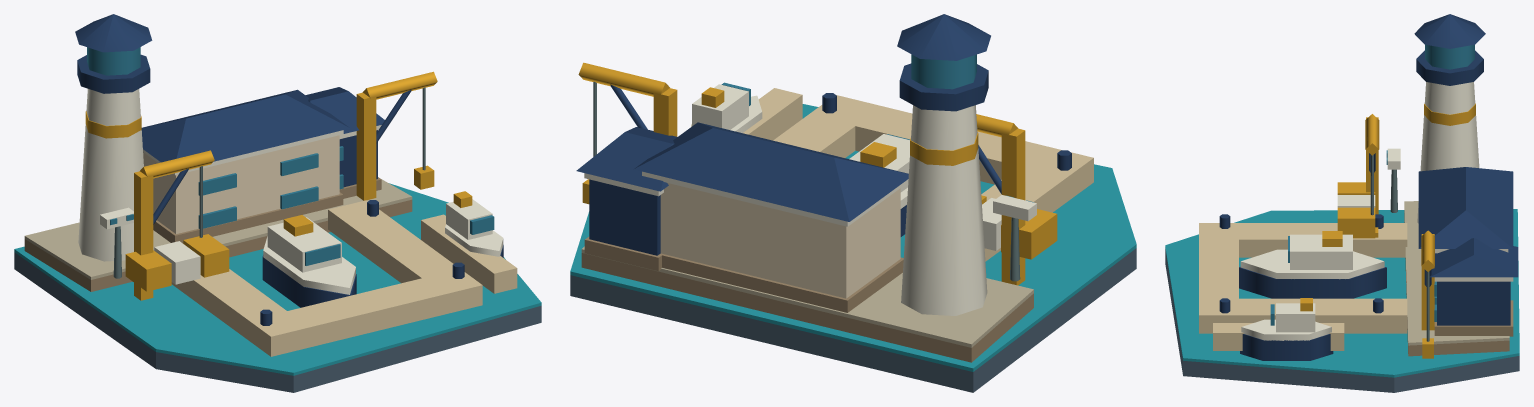
File: port-lv3.glb
3 views of the same model, side by side, from view 1: azimuth 30°, elevation 25°; view 2: azimuth 150°, elevation 25°; view 3: azimuth 270°, elevation 25° (orthographic). The views are drawn at different scales.
Visible parts, largest first — view 1: foundation_water, pier_stone, foundation_slate, warehouse_cream, warehouse_roof_naval, lighthouse_white, cranes_ochre, vessel_white, quay_paving, outer_pier_stone, cargo_ochre, warehouse_windows_glass (+17 smaller); view 2: warehouse_cream, foundation_water, lighthouse_white, warehouse_roof_naval, foundation_slate, pier_stone, quay_stoneDark, quay_paving, cranes_ochre, warehouse_annex_naval, warehouse_stoneDark, vessel_white (+15 smaller); view 3: foundation_water, pier_stone, warehouse_roof_naval, vessel_white, foundation_slate, vessel_naval, lighthouse_white, warehouse_annex_naval, quay_paving, warehouse_annex_roof_naval, cranes_ochre, lighthouse_roof_naval (+12 smaller).
Boxes of the visible parts, bbox=[...] form: foundation_water: bbox=[14, 183, 541, 375]; pier_stone: bbox=[171, 200, 482, 356]; foundation_slate: bbox=[14, 252, 541, 392]; warehouse_cream: bbox=[143, 135, 339, 233]; warehouse_roof_naval: bbox=[141, 89, 349, 162]; lighthouse_white: bbox=[78, 89, 143, 261]; cranes_ochre: bbox=[134, 71, 437, 300]; vessel_white: bbox=[263, 199, 503, 294]; quay_paving: bbox=[24, 179, 412, 279]; outer_pier_stone: bbox=[421, 214, 517, 293]; cargo_ochre: bbox=[125, 234, 229, 291]; warehouse_windows_glass: bbox=[198, 153, 318, 228]; warehouse_cream: bbox=[660, 183, 900, 298]; foundation_water: bbox=[570, 104, 1136, 371]; lighthouse_white: bbox=[901, 105, 987, 315]; warehouse_roof_naval: bbox=[633, 122, 908, 221]; foundation_slate: bbox=[570, 248, 1136, 392]; pier_stone: bbox=[773, 95, 1093, 261]; quay_stoneDark: bbox=[581, 253, 1033, 362]; quay_paving: bbox=[581, 246, 1033, 347]; cranes_ochre: bbox=[578, 62, 1025, 285]; warehouse_annex_naval: bbox=[589, 179, 660, 255]; warehouse_stoneDark: bbox=[660, 253, 903, 312]; vessel_white: bbox=[691, 84, 909, 208]; foundation_water: bbox=[1165, 209, 1519, 377]; pier_stone: bbox=[1199, 223, 1407, 333]; warehouse_roof_naval: bbox=[1418, 167, 1513, 248]; vessel_white: bbox=[1240, 234, 1384, 340]; foundation_slate: bbox=[1165, 250, 1519, 392]; vessel_naval: bbox=[1239, 267, 1386, 360]; lighthouse_white: bbox=[1417, 82, 1479, 223]; warehouse_annex_naval: bbox=[1437, 281, 1510, 325]; quay_paving: bbox=[1404, 201, 1509, 345]; warehouse_annex_roof_naval: bbox=[1430, 238, 1518, 277]; cranes_ochre: bbox=[1365, 114, 1434, 330]; lighthouse_roof_naval: bbox=[1414, 14, 1485, 48].
Bounding box in the file's own units: 1 × 0.6751 × 0.9036.
